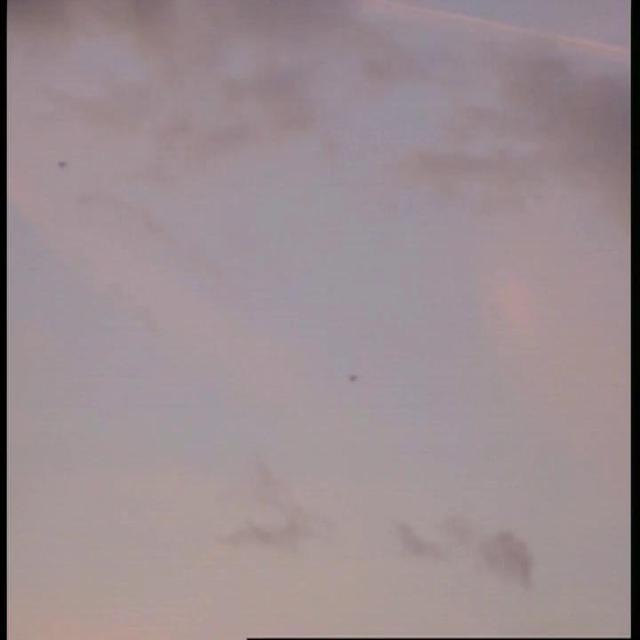drone: (344, 368, 364, 388), (54, 156, 70, 172)
